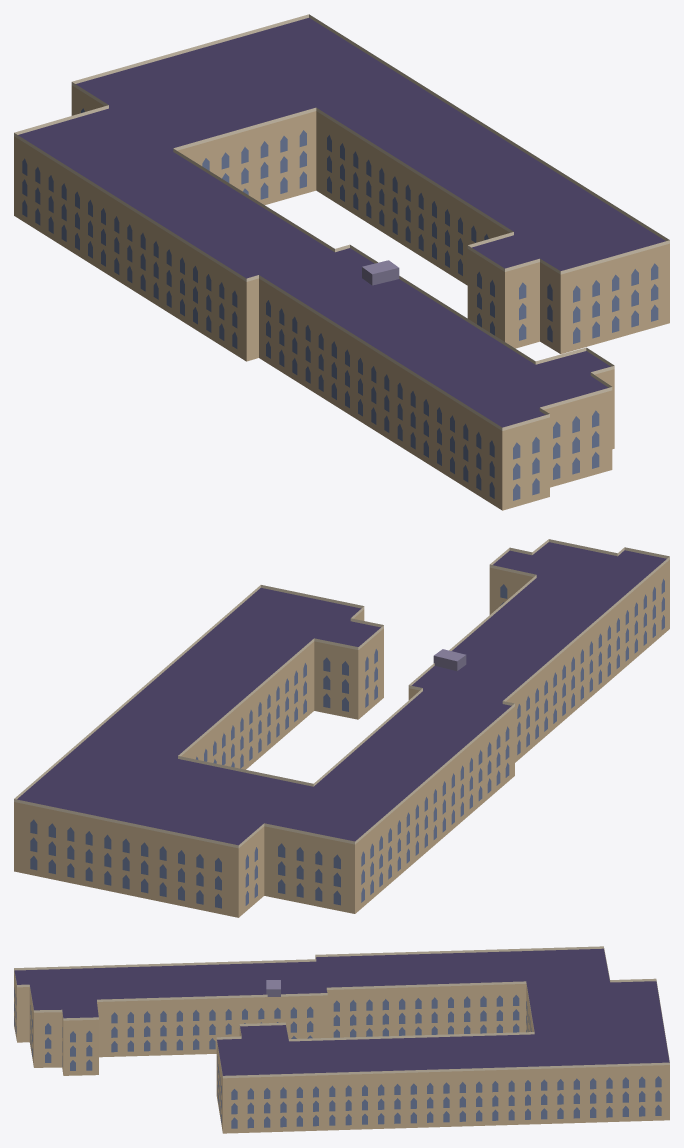
Rendered from b-119-day.glb.
3 renders of one model, top to bottom at view 1: azimuth 30°, elevation 25°; view 2: azimuth 150°, elevation 25°; view 3: azimuth 270°, elevation 25°, orthographic. The views are drawn at different scales.
Visible parts, largest first — view 1: campus/b-119-day-0; view 2: campus/b-119-day-0; view 3: campus/b-119-day-0.
Boxes of the visible parts, box(x1,y1,x2,y2) form: campus/b-119-day-0: box(14, 14, 669, 510); campus/b-119-day-0: box(14, 539, 669, 917); campus/b-119-day-0: box(14, 946, 669, 1133).
Size of the model in its own units: 63.76 by 14.5 by 136.
